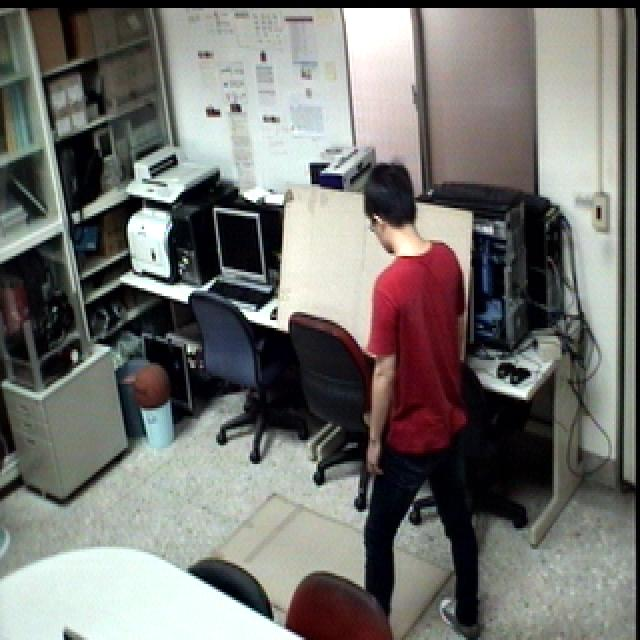stand: (357, 161, 485, 640)
